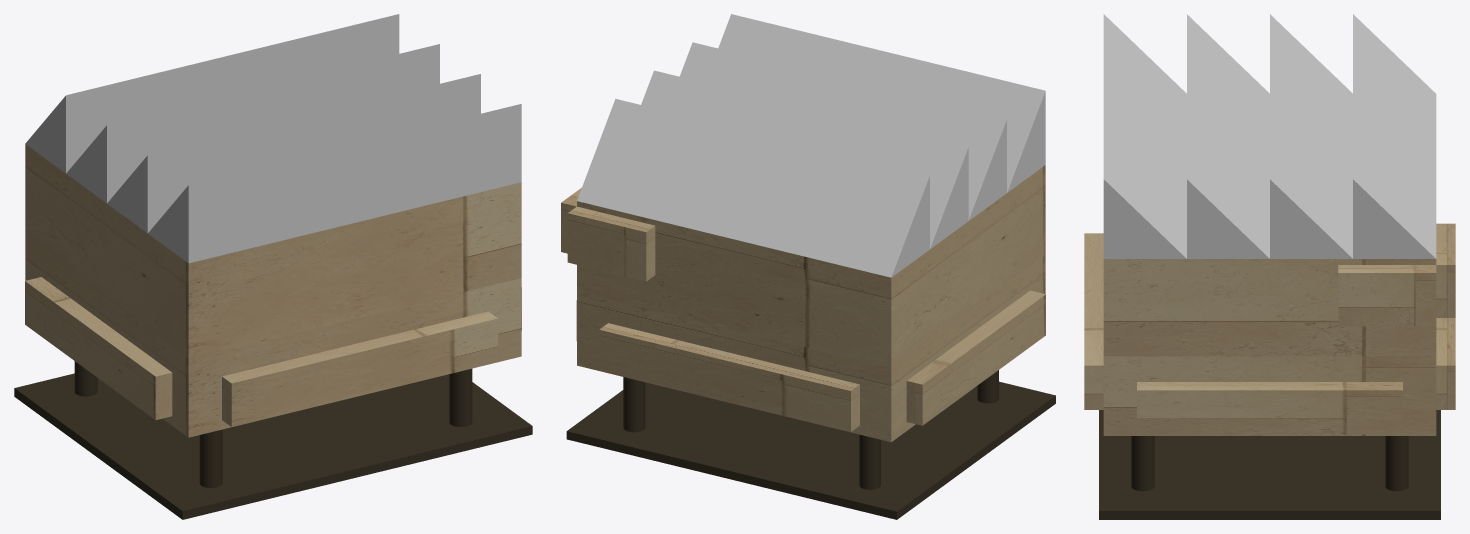
Rendered from museojumex.obj.
The picture shows the model from 3 angles, left to right: view 1: azimuth 30°, elevation 25°; view 2: azimuth 150°, elevation 25°; view 3: azimuth 270°, elevation 25°; orthographic projection. The views are drawn at different scales.
Parts seen in each view (by area): view 1: Sierra_Techo, Bloque_Superior, Base_Plinto, Bloque_Intermedio, Cutter_Trasero, Cutter_Izquierdo, Columna_3, Columna_4, Columna_1; view 2: Sierra_Techo, Bloque_Superior, Base_Plinto, Bloque_Intermedio, Cutter_Frontal, Cutter_Izquierdo, Cutter_Ventana_Superior, Columna_2, Columna_1; view 3: Sierra_Techo, Bloque_Superior, Base_Plinto, Cutter_Derecho, Bloque_Intermedio, Cutter_Ventana_Superior_Lateral, Cutter_Trasero, Cutter_Ventana_Superior, Cutter_Frontal, Columna_2, Columna_4.
Part boxes in pixels (left/top/right/bottom): Sierra_Techo: left=25, top=14, right=521, bottom=263; Bloque_Superior: left=25, top=144, right=521, bottom=359; Base_Plinto: left=14, top=373, right=532, bottom=519; Bloque_Intermedio: left=25, top=240, right=521, bottom=437; Cutter_Trasero: left=222, top=311, right=497, bottom=426; Cutter_Izquierdo: left=25, top=277, right=172, bottom=419; Columna_3: left=199, top=429, right=222, bottom=487; Columna_4: left=449, top=368, right=472, bottom=426; Columna_1: left=74, top=361, right=97, bottom=396; Sierra_Techo: left=577, top=14, right=1045, bottom=277; Bloque_Superior: left=577, top=165, right=1045, bottom=368; Base_Plinto: left=566, top=381, right=1055, bottom=519; Bloque_Intermedio: left=577, top=255, right=1045, bottom=442; Cutter_Frontal: left=599, top=323, right=859, bottom=432; Cutter_Izquierdo: left=906, top=290, right=1045, bottom=425; Cutter_Ventana_Superior: left=567, top=206, right=655, bottom=281; Columna_2: left=623, top=377, right=645, bottom=432; Columna_1: left=859, top=434, right=880, bottom=489; Sierra_Techo: left=1103, top=14, right=1436, bottom=258; Bloque_Superior: left=1103, top=259, right=1436, bottom=356; Base_Plinto: left=1099, top=410, right=1440, bottom=519; Cutter_Derecho: left=1137, top=382, right=1402, bottom=434; Bloque_Intermedio: left=1103, top=356, right=1436, bottom=435; Cutter_Ventana_Superior_Lateral: left=1338, top=265, right=1436, bottom=326; Cutter_Trasero: left=1084, top=233, right=1103, bottom=409; Cutter_Ventana_Superior: left=1436, top=223, right=1455, bottom=317; Cutter_Frontal: left=1436, top=318, right=1455, bottom=409; Columna_2: left=1385, top=436, right=1408, bottom=491; Columna_4: left=1131, top=436, right=1154, bottom=491.
Bounding box in the file's own units: 44 × 38 × 38.
